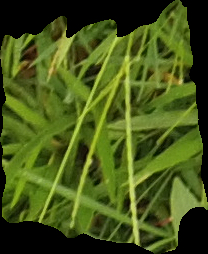grass: (1, 1, 206, 252)
